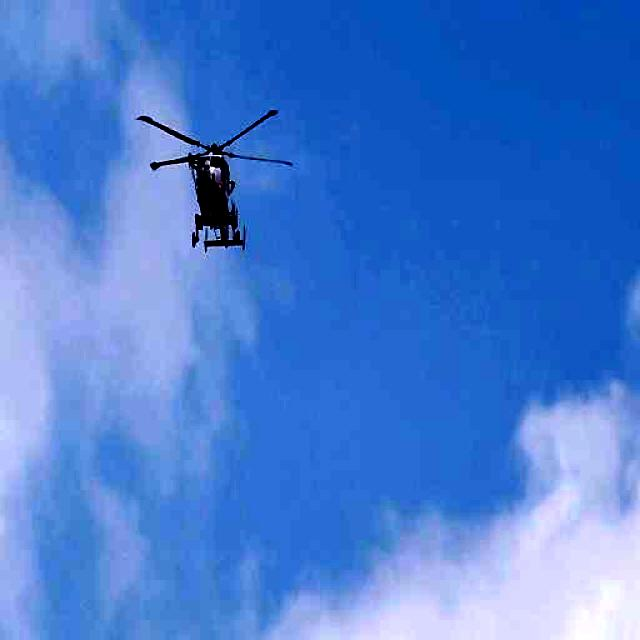drone: (171, 139, 328, 301)
